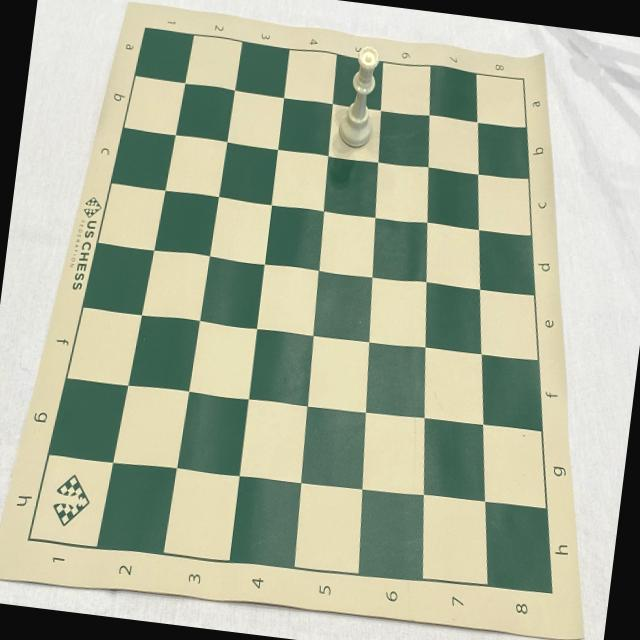white-queen: (336, 43, 382, 150)
